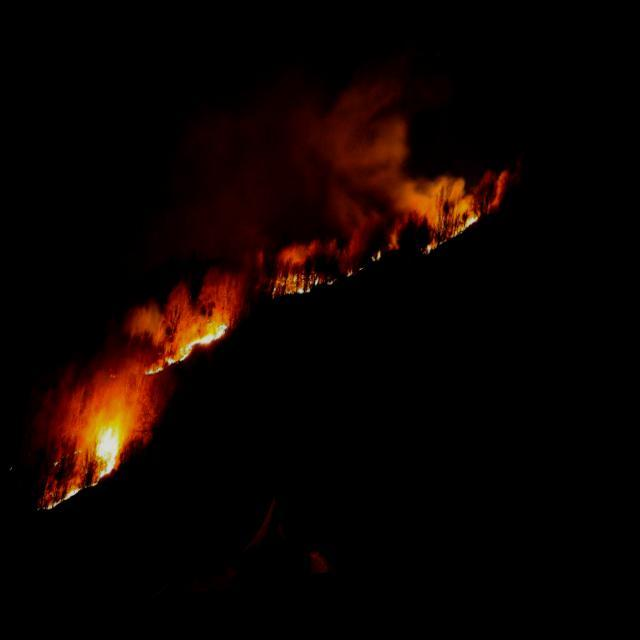Fire: (52, 428, 144, 520), (275, 256, 400, 321), (155, 326, 249, 389), (434, 220, 493, 270)
